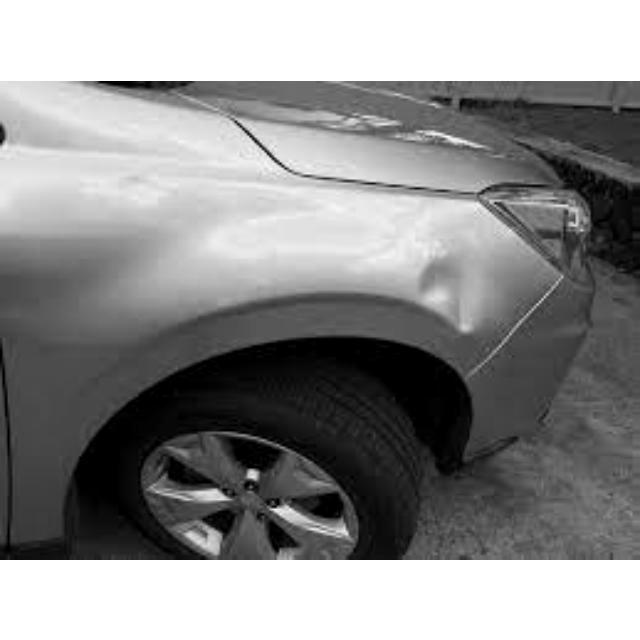fender-dent: (6, 162, 485, 557)
